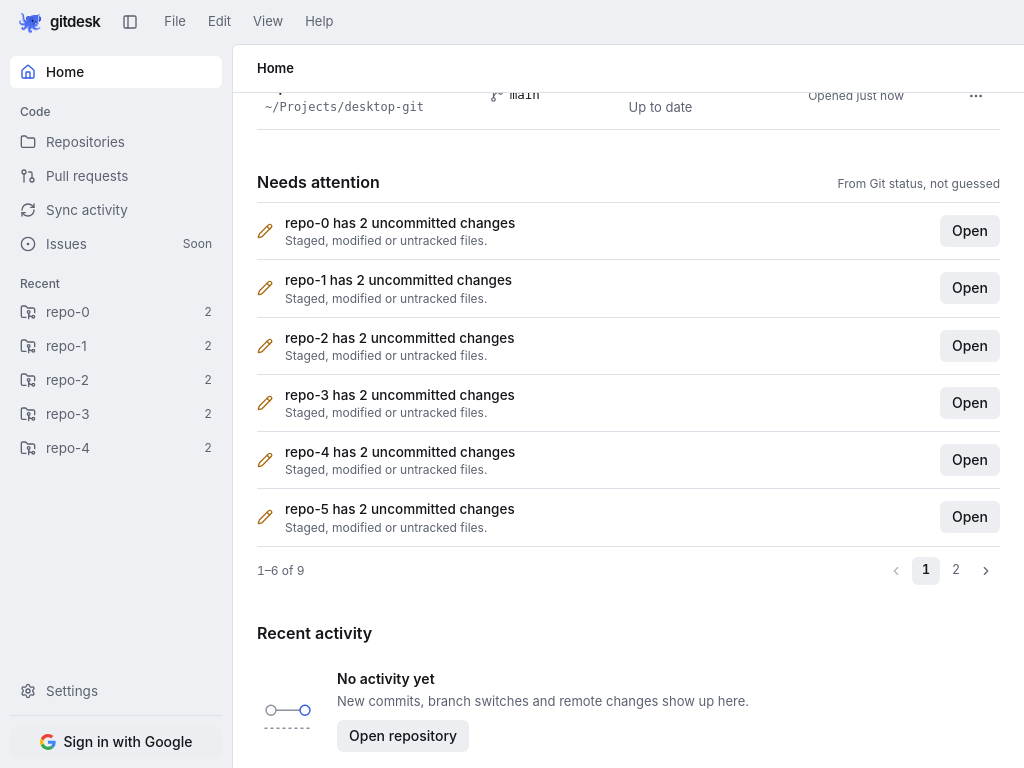
it: home sections › pages Needs attention six at a time
(page scrolled)
Expected: the text "1–6 of 9" is shown, [257,562,304,578]
Click the button named "Next page": [986, 570] box [972,556,1000,584]
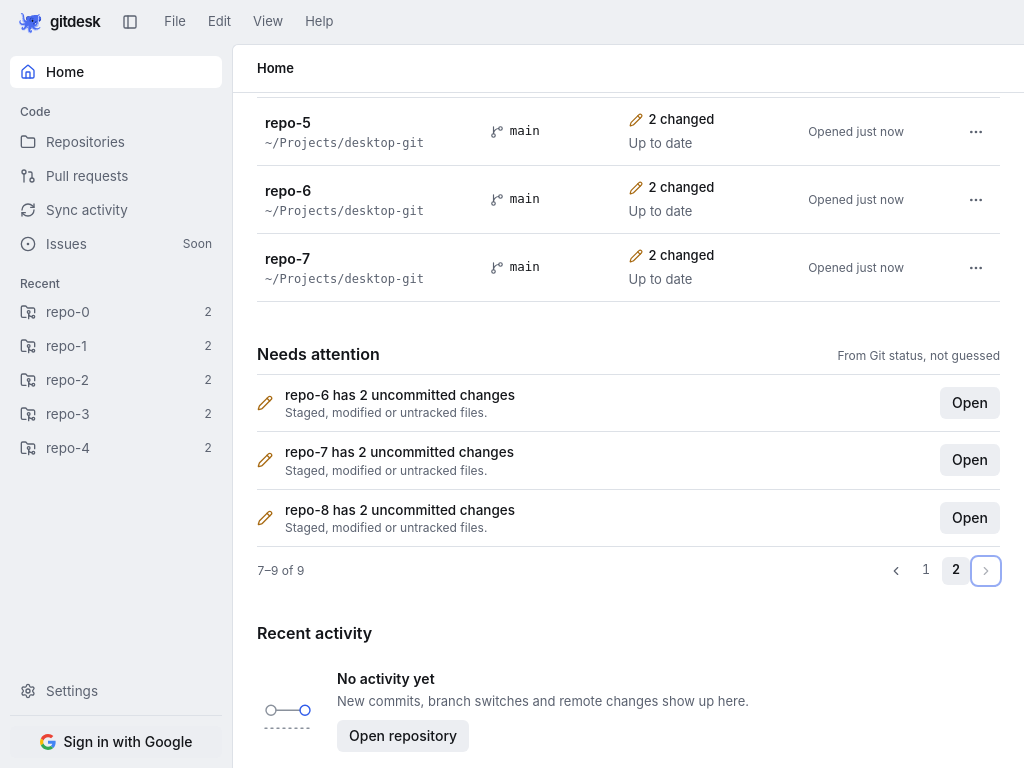
Expected: the text "7–9 of 9" is shown, [257,563,304,579]
